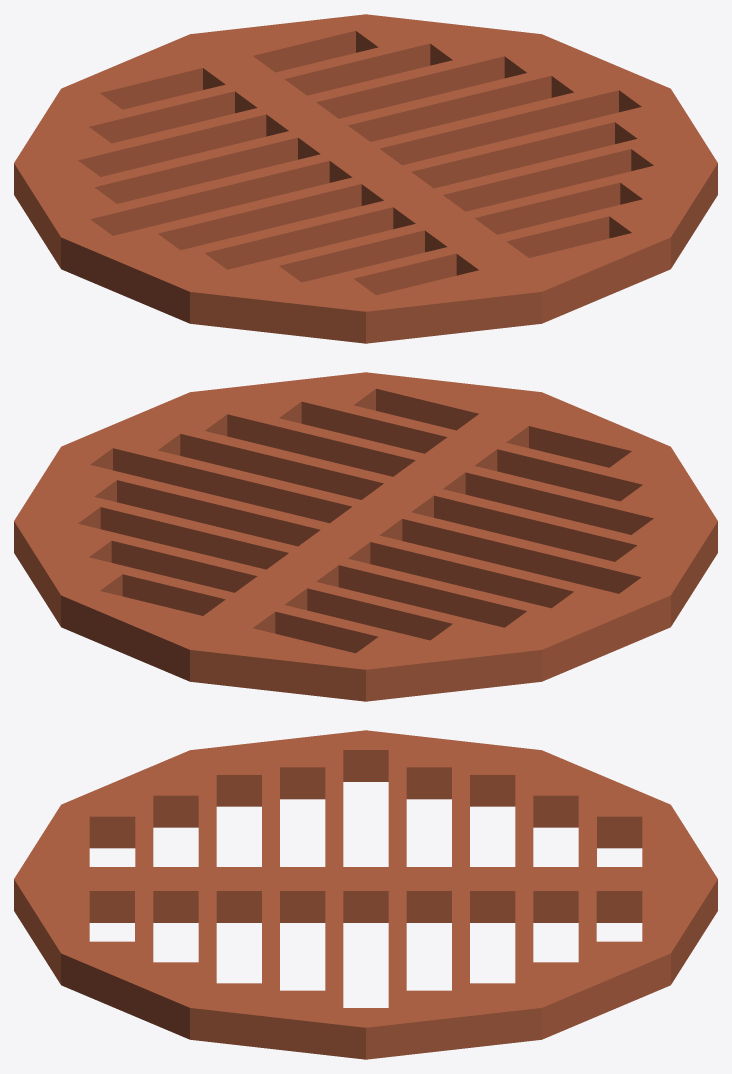
Rendered from Coloured_Lid.fbx.
3 renders of one model, top to bottom at view 1: azimuth 30°, elevation 25°; view 2: azimuth 150°, elevation 25°; view 3: azimuth 270°, elevation 25°, orthographic.
Visible parts, largest first — view 1: pCylinder4; view 2: pCylinder4; view 3: pCylinder4.
Part boxes in pixels (<box>): pCylinder4: <box>14,14,717,343</box>; pCylinder4: <box>14,372,717,701</box>; pCylinder4: <box>14,730,717,1059</box>.
Size of the model in its own units: 1 by 0.05 by 1.
